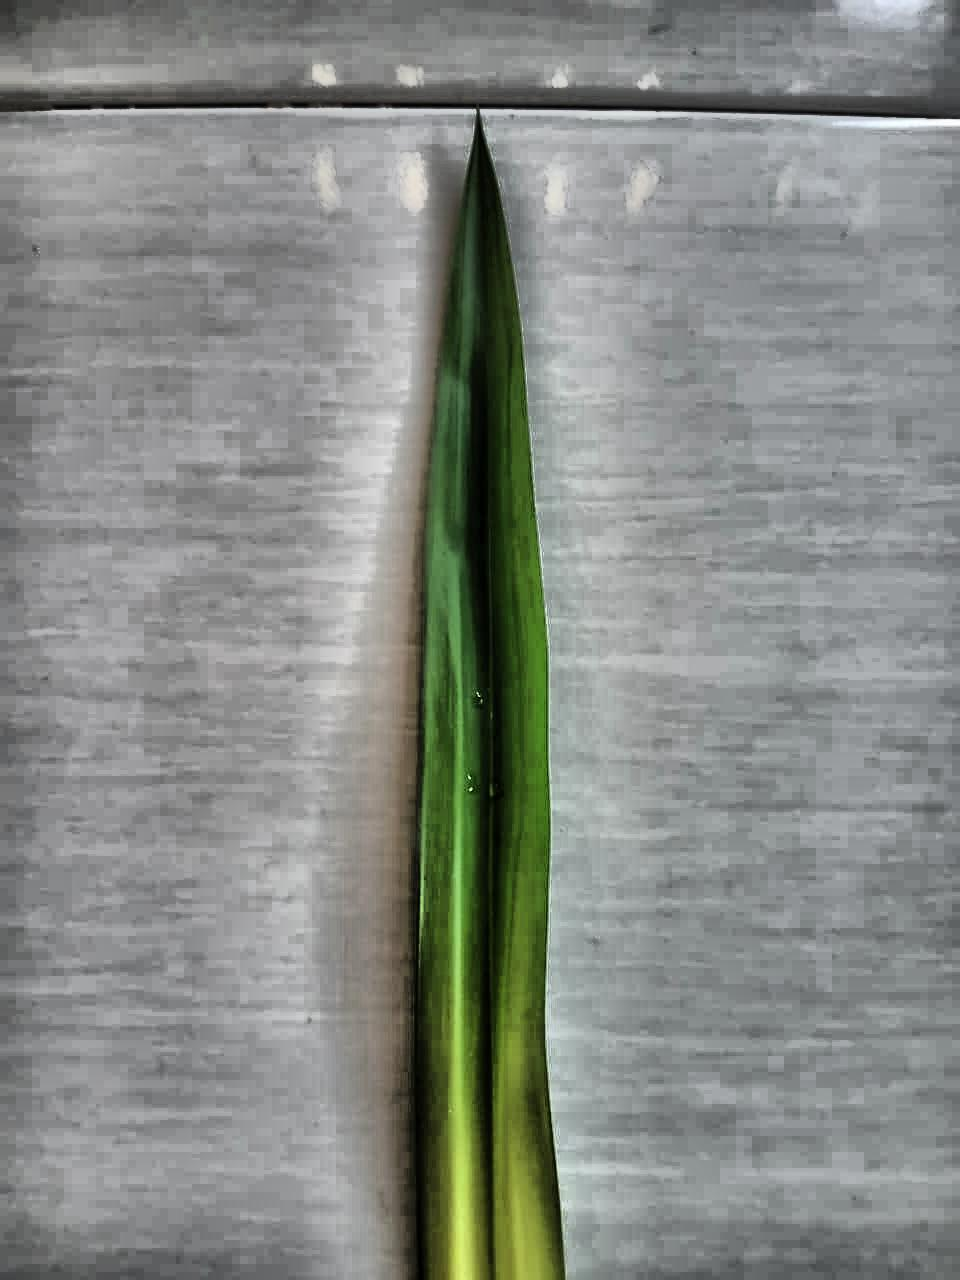daun pandan: (414, 120, 563, 1279)
